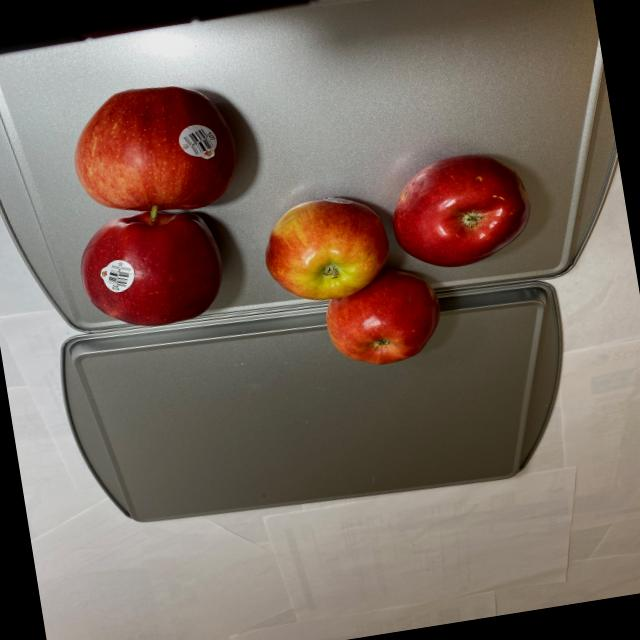apple: (254, 144, 560, 383), (44, 70, 266, 342)
